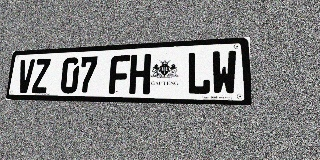0: (60, 57, 80, 94)
7: (77, 56, 98, 94)
F: (109, 55, 130, 94)
H: (129, 54, 151, 94)
L: (186, 51, 211, 95)
V: (16, 59, 35, 93)
W: (211, 50, 237, 95)
Z: (32, 58, 51, 93)
